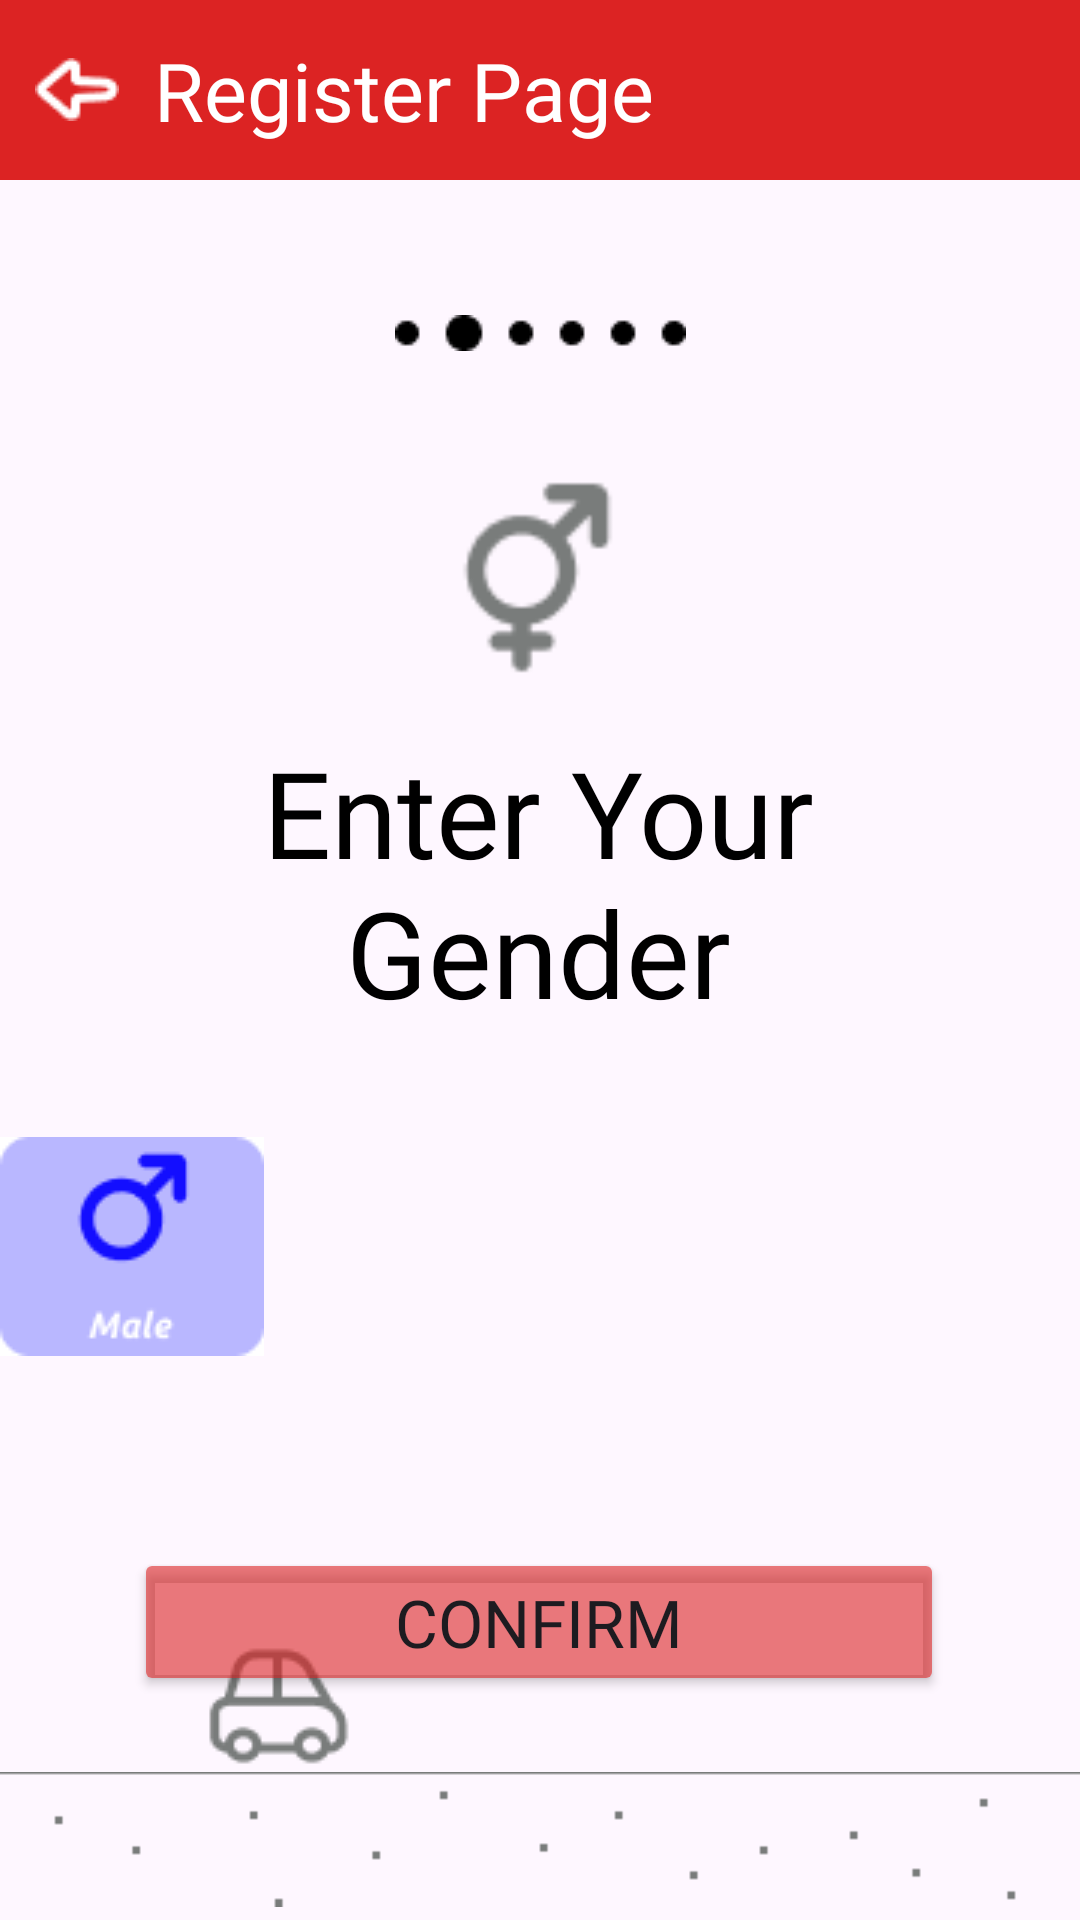

Screen size 1080 x 1920. Icon name, then its center in pixels as [x,y]:
car: [277,1706]
